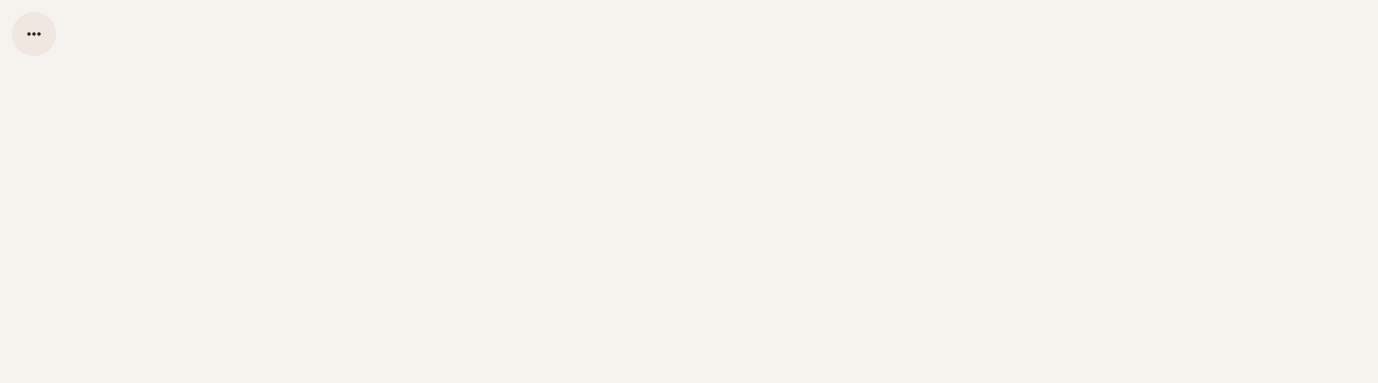
it: PageActionsMenu › Duplicate runs the action for this page and closes the menu
Click the button named "Actions for Cell walls" at (34, 34), box x1=12 y1=12 x2=56 y2=56
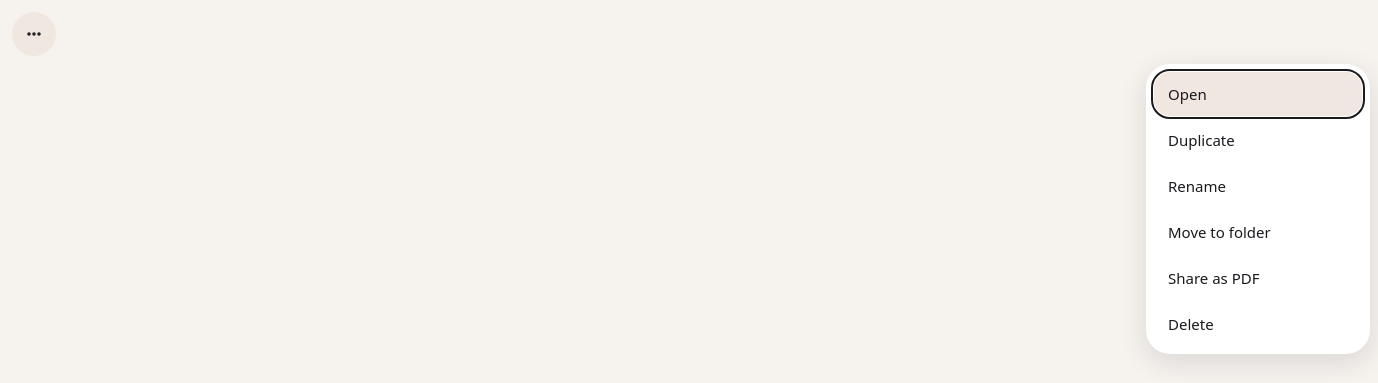
Click the menu item "Duplicate" at (1258, 140), box x1=1154 y1=118 x2=1362 y2=162
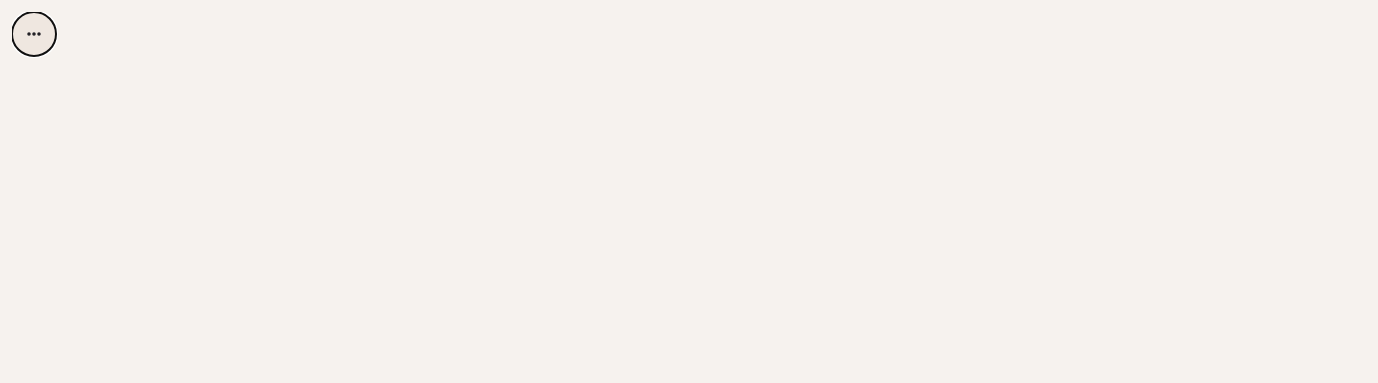
Check: the menu is gone
